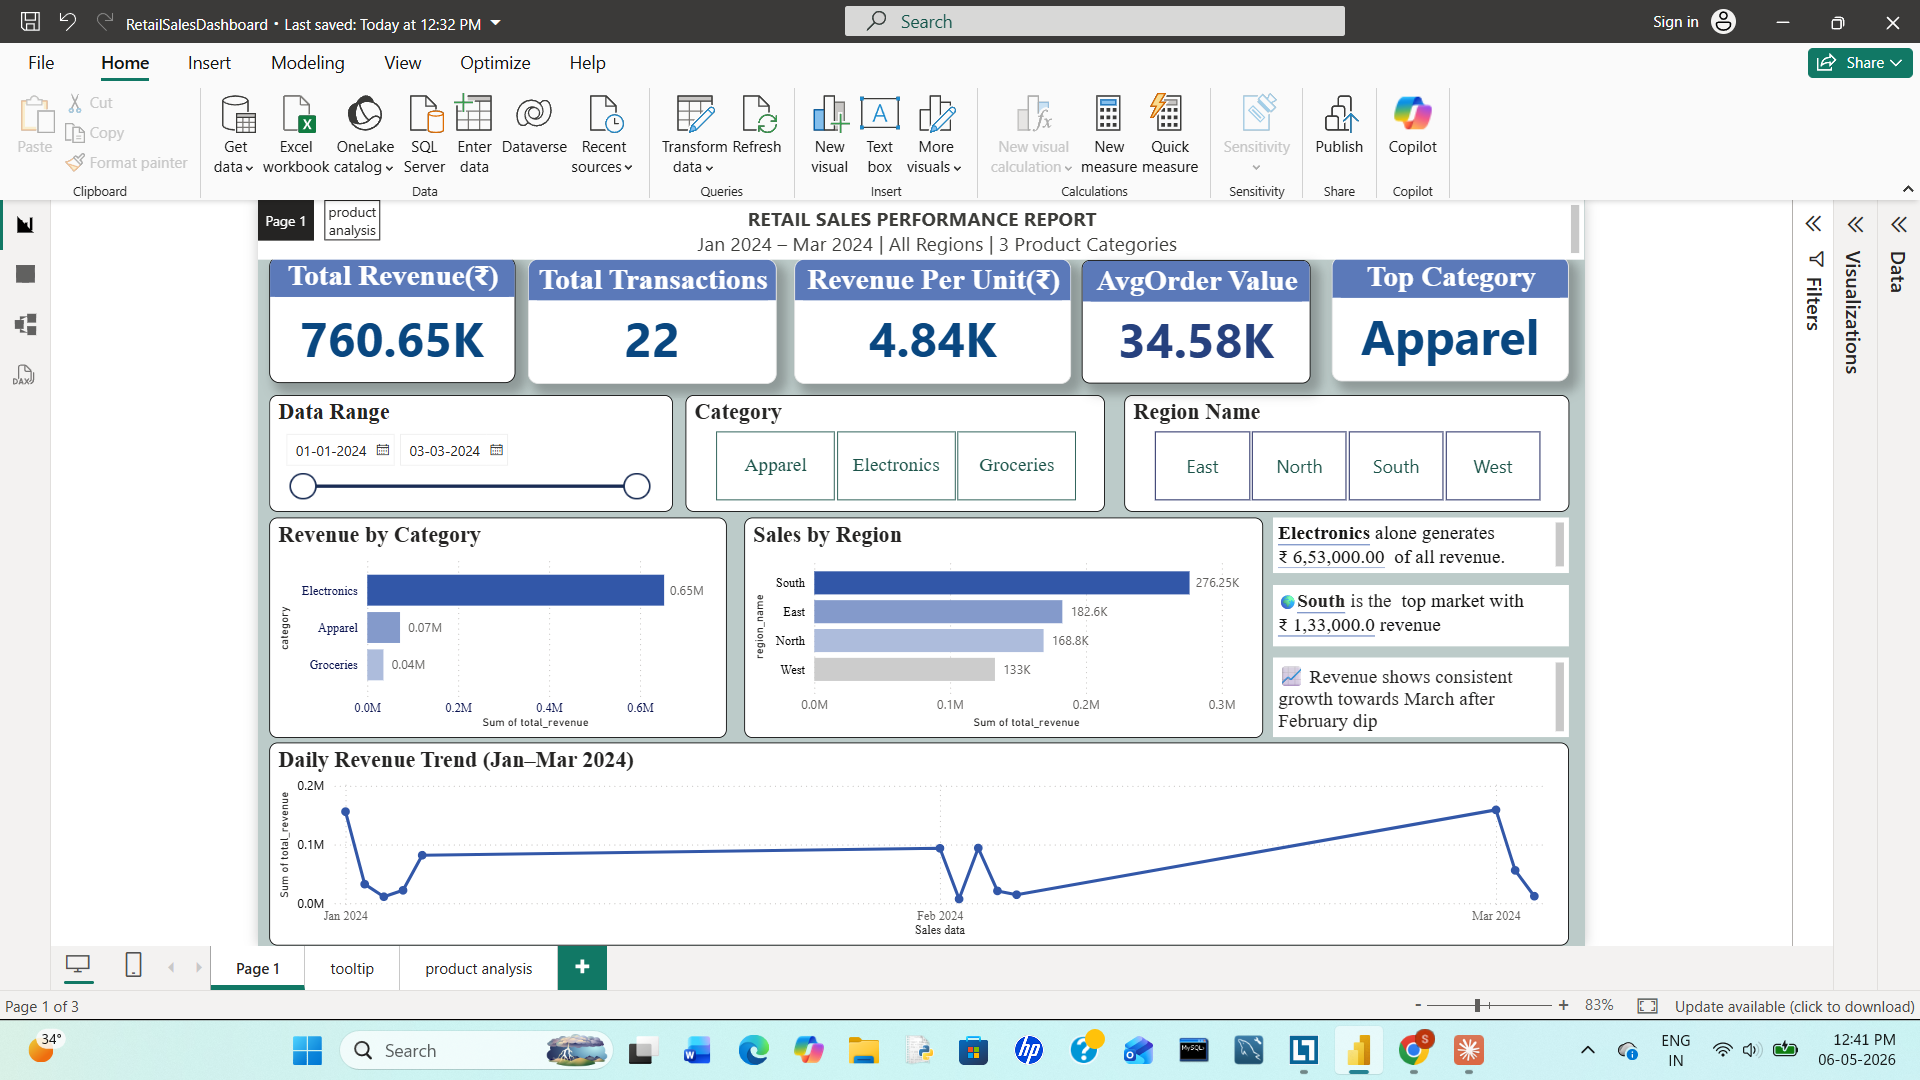

What the dashboard file says about the page in this screenshot:
{"tool":"powerbi","page":{"name":"Page 1","canvas":[1280,720],"ordinal":0},"visuals":[{"type":"card","title":"Total Revenue(₹)","fields":{"Values":["Sum(vw_daily_sales_summary.total_revenue)"]},"box":[11,54.9,237.4,122.1],"z":0},{"type":"card","title":"Total Transactions","fields":{"Values":["Sum(vw_daily_sales_summary.num_transactions)"]},"box":[260.7,56.3,240.1,120.8],"z":1000},{"type":"card","title":"Revenue Per Unit(₹)","fields":{"Values":["dim_products.Revenue per Unit"]},"box":[517.3,56.3,267.6,120.8],"z":2000},{"type":"card","title":"Top Category","fields":{"Values":["Min(vw_daily_sales_summary.category)"]},"box":[1036,54.9,229.2,120.8],"z":3000},{"type":"clusteredBarChart","title":"Revenue by Category","fields":{"Category":["vw_daily_sales_summary.category"],"Y":["Sum(vw_daily_sales_summary.total_revenue)"]},"box":[11,306,441.9,212.7],"z":4000},{"type":"lineChart","title":"Daily Revenue Trend (Jan–Mar 2024)","fields":{"Y":["Sum(vw_daily_sales_summary.total_revenue)"],"Category":["vw_daily_sales_summary.sale_date"]},"box":[11,524.2,1254.2,196.2],"z":5000},{"type":"slicer","title":"Data Range","fields":{"Values":["vw_daily_sales_summary.sale_date"]},"box":[11,188,389.7,112.5],"z":6000},{"type":"slicer","title":"Region Name","fields":{"Values":["vw_daily_sales_summary.region_name"]},"box":[835.7,188,429.5,112.5],"z":7000},{"type":"slicer","title":"Category","fields":{"Values":["vw_daily_sales_summary.category"]},"box":[413,188,404.8,112.5],"z":8000},{"type":"clusteredBarChart","title":"Sales by Region","fields":{"Category":["vw_daily_sales_summary.region_name"],"Y":["Sum(vw_daily_sales_summary.total_revenue)"]},"box":[469.3,306,500.9,212.7],"z":9000},{"type":"textbox","box":[0,0,1280,57.9],"z":10000},{"type":"pageNavigator","box":[0,0,118,39.8],"z":11000},{"type":"textbox","box":[979.8,371.9,285.4,59],"z":12000},{"type":"textbox","box":[979.8,306,285.4,53.5],"z":13000},{"type":"card","title":"AvgOrder Value","fields":{"Values":["Avg(vw_daily_sales_summary.total_revenue)"]},"box":[794.5,57.6,220.9,119.4],"z":14000},{"type":"textbox","box":[979.8,441.9,285.4,76.8],"z":15000}]}

Visuals, with their boxes on the page's 1280x720 design canvas (x1, y1, x2, y2). These are canvas units, not pixel positions in the 1920x1080 screenshot, which may show the page scaled, cropped or inside an application window:
"Total Revenue(₹)" card: (11, 55, 248, 177)
"Total Transactions" card: (261, 56, 501, 177)
"Revenue Per Unit(₹)" card: (517, 56, 785, 177)
"Top Category" card: (1036, 55, 1265, 176)
"Revenue by Category" clusteredBarChart: (11, 306, 453, 519)
"Daily Revenue Trend (Jan–Mar 2024)" lineChart: (11, 524, 1265, 720)
"Data Range" slicer: (11, 188, 401, 300)
"Region Name" slicer: (836, 188, 1265, 300)
"Category" slicer: (413, 188, 818, 300)
"Sales by Region" clusteredBarChart: (469, 306, 970, 519)
textbox: (0, 0, 1280, 58)
pageNavigator: (0, 0, 118, 40)
textbox: (980, 372, 1265, 431)
textbox: (980, 306, 1265, 360)
"AvgOrder Value" card: (794, 58, 1015, 177)
textbox: (980, 442, 1265, 519)
